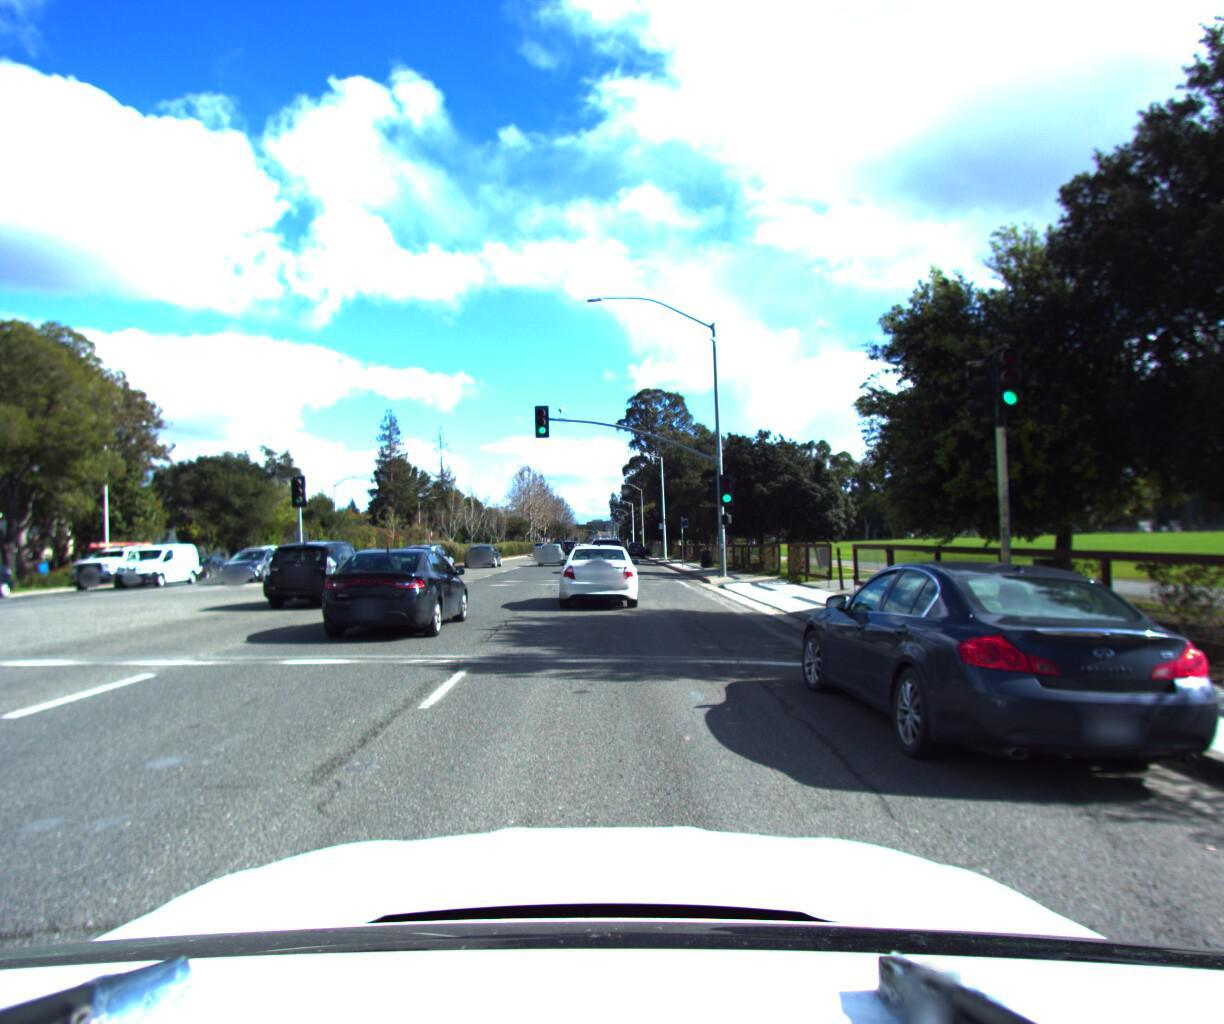car: (794, 550, 1224, 819), (314, 539, 477, 651), (256, 543, 392, 615), (551, 530, 639, 614), (70, 544, 185, 598), (111, 547, 209, 595), (388, 542, 461, 587), (218, 550, 298, 588), (171, 556, 241, 586), (462, 543, 505, 571), (536, 544, 566, 568), (624, 544, 649, 562), (563, 543, 583, 561)
